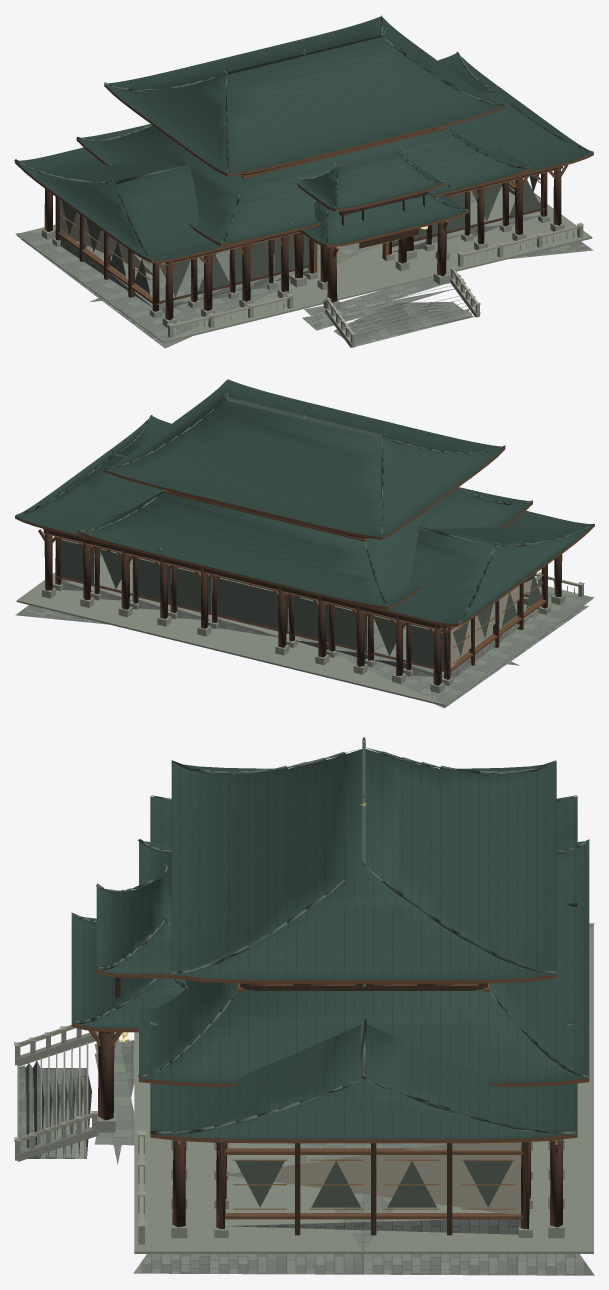
The model's file is main_sect_hall_lod.glb.
The picture shows the model from 3 angles, top to bottom: view 1: azimuth 30°, elevation 25°; view 2: azimuth 150°, elevation 25°; view 3: azimuth 270°, elevation 25°; orthographic projection. The views are drawn at different scales.
Visible parts, largest first — view 1: LOD_JadeTile, LOD_ArchStone, LOD_Timber, LOD_Paving, LOD_Ashlar, LOD_CarvedWood, LOD_Window, LOD_TileEdge, LOD_Coping, LOD_Plaster; view 2: LOD_JadeTile, LOD_ArchStone, LOD_Timber, LOD_Window, LOD_CarvedWood, LOD_Paving, LOD_TileEdge, LOD_Ashlar, LOD_Plaster; view 3: LOD_JadeTile, LOD_ArchStone, LOD_Ashlar, LOD_CarvedWood, LOD_Timber, LOD_Plaster, LOD_TileEdge, LOD_Window, LOD_Paving, LOD_Coping.
Part boxes in pixels (x1,y1,x2,y2): LOD_JadeTile: (17,16,593,260); LOD_ArchStone: (16,180,592,347); LOD_Timber: (44,128,562,320); LOD_Paving: (15,186,509,341); LOD_Ashlar: (21,184,593,348); LOD_CarvedWood: (15,79,593,305); LOD_Window: (62,174,541,297); LOD_TileEdge: (14,15,593,258); LOD_Coping: (167,223,583,335); LOD_Plaster: (59,175,540,274); LOD_JadeTile: (15,379,594,623); LOD_ArchStone: (16,555,592,706); LOD_Timber: (43,491,562,685); LOD_Window: (61,540,541,669); LOD_CarvedWood: (15,416,594,673); LOD_Paving: (91,546,594,704); LOD_TileEdge: (15,379,593,623); LOD_Ashlar: (15,548,588,708); LOD_Plaster: (62,539,543,667); LOD_JadeTile: (71,748,589,1139); LOD_ArchStone: (15,925,593,1253); LOD_Ashlar: (19,1040,594,1275); LOD_CarvedWood: (71,906,589,1219); LOD_Timber: (98,977,562,1235); LOD_Plaster: (226,1142,521,1214); LOD_TileEdge: (71,737,590,1134); LOD_Window: (235,1160,512,1207); LOD_Paving: (94,923,594,1251); LOD_Coping: (14,1025,146,1225).
Size of the model in its own units: 41.68 by 18.31 by 30.19.
14 materials, 9 textured.
